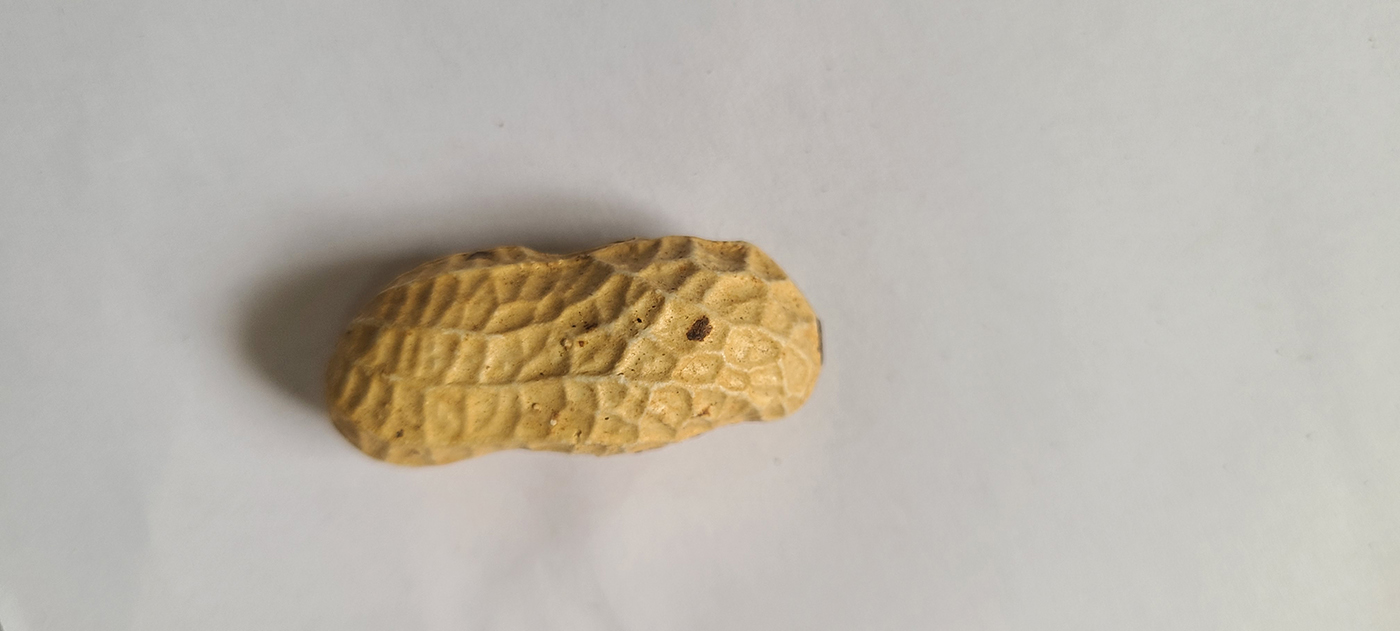h: (324, 232, 824, 466)
